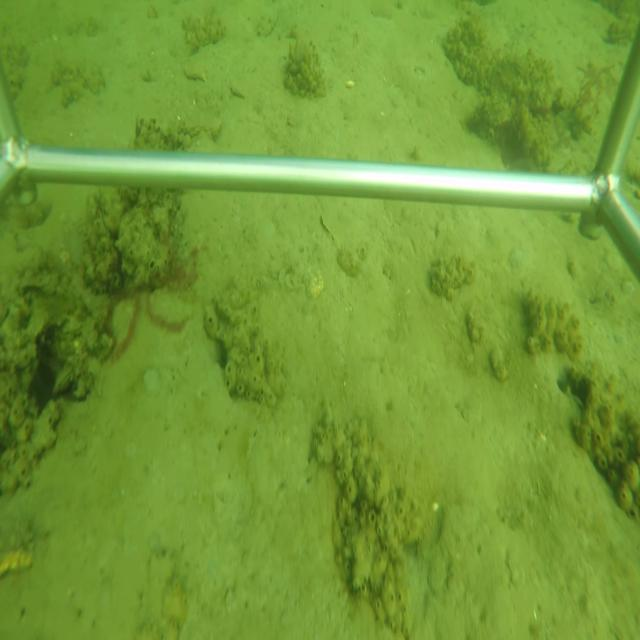Oyster-Closed: (50, 363, 77, 400)
